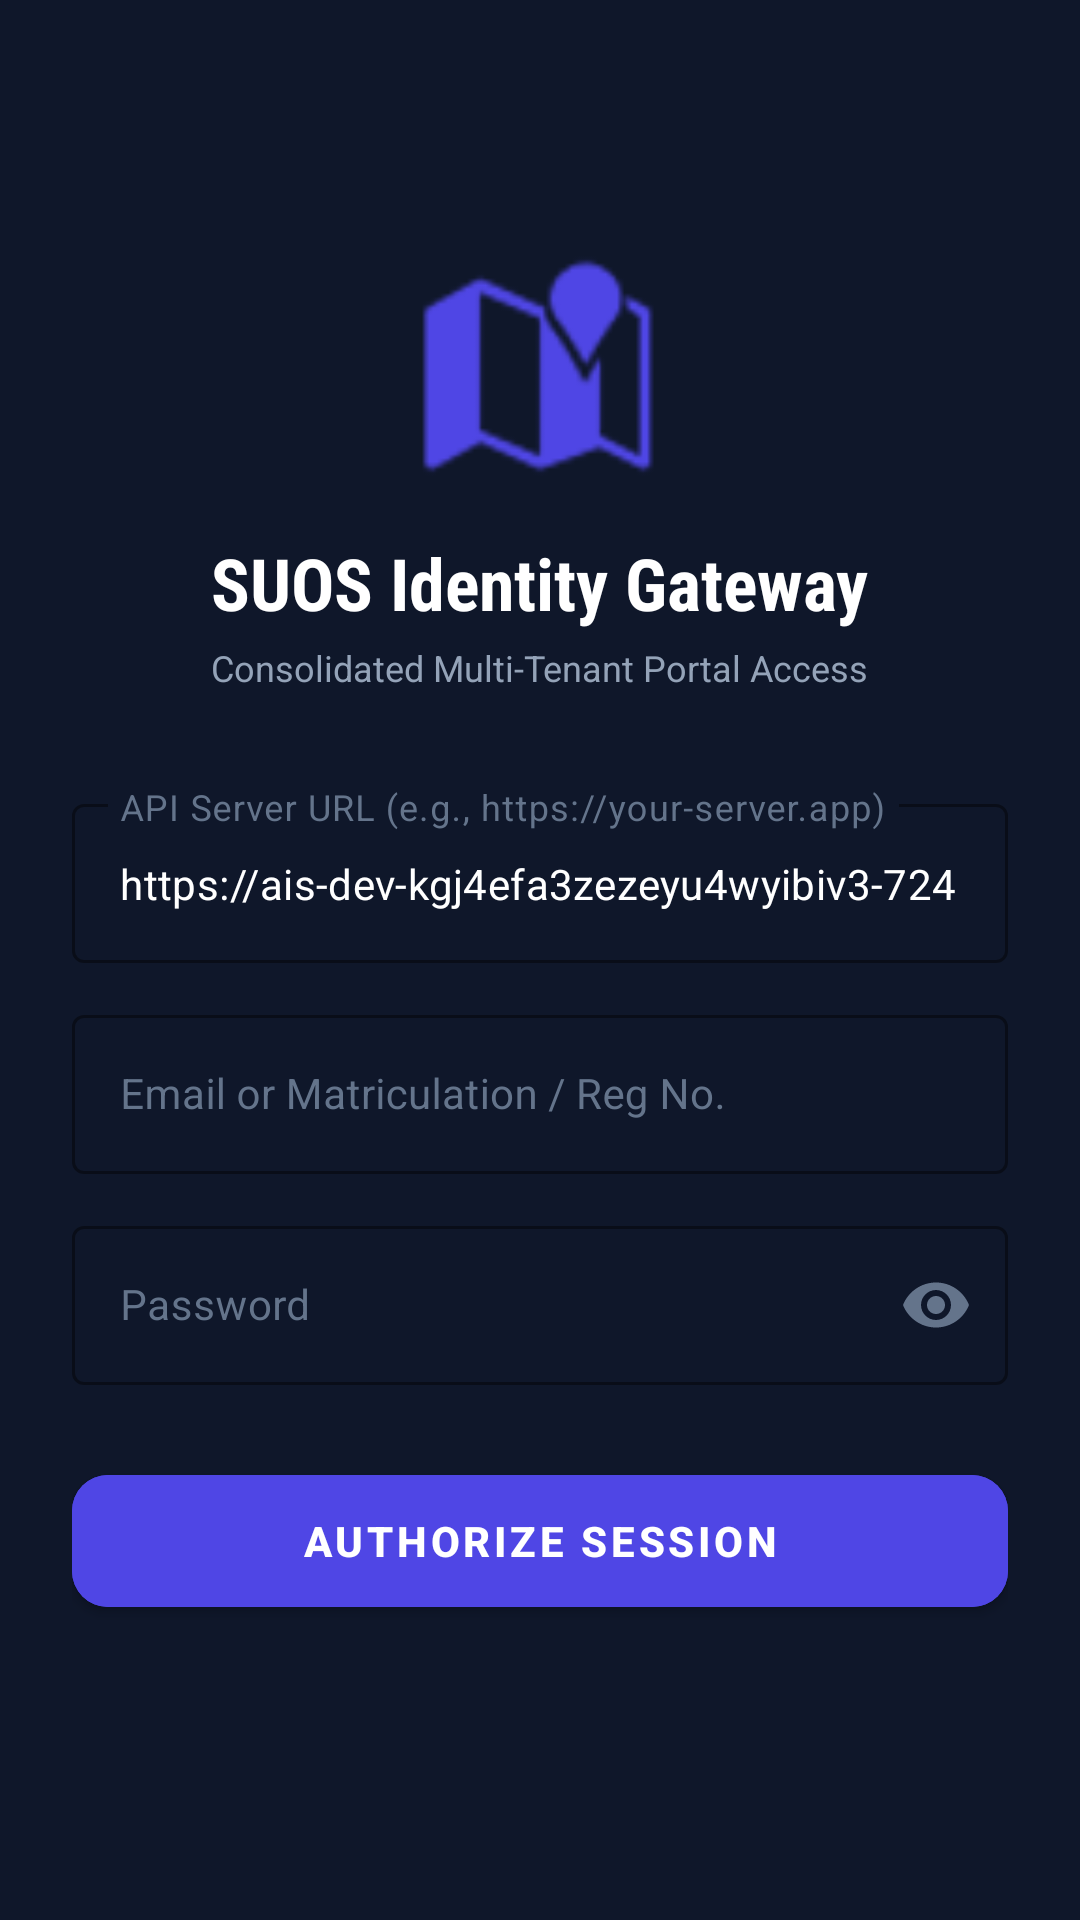

Where icons sit on this 1080px x 1920px app screen, as rect(x1, y1, x2, y2):
map: rect(423, 260, 653, 472)
